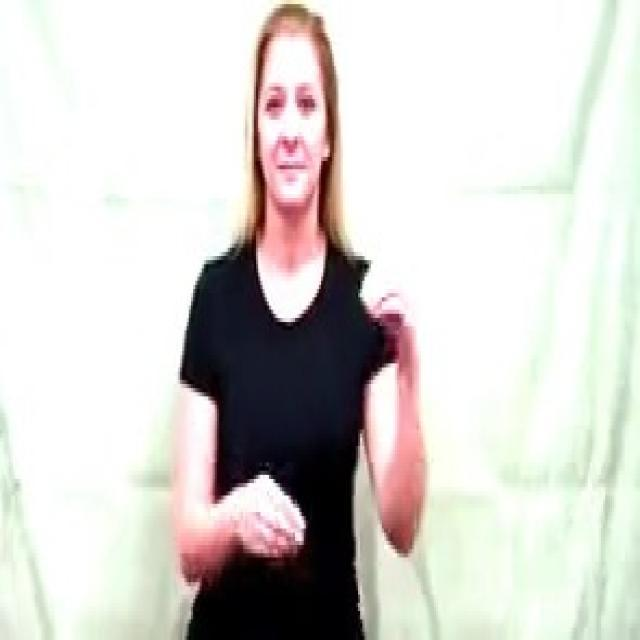ingredients: (227, 464, 322, 566), (354, 250, 424, 370)
